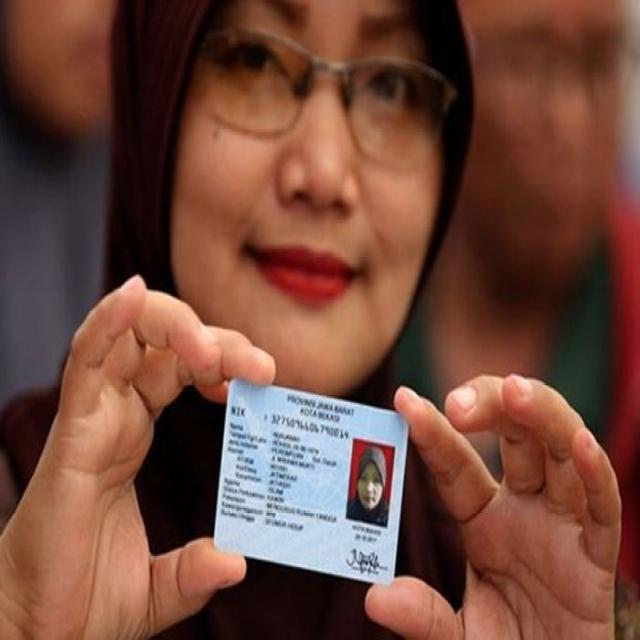Face: (113, 0, 471, 386)
